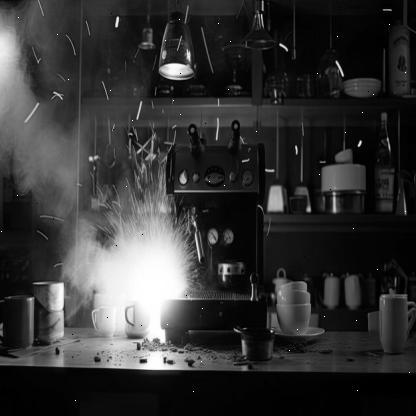fire: (126, 200, 194, 349)
smoke: (0, 2, 140, 339)
